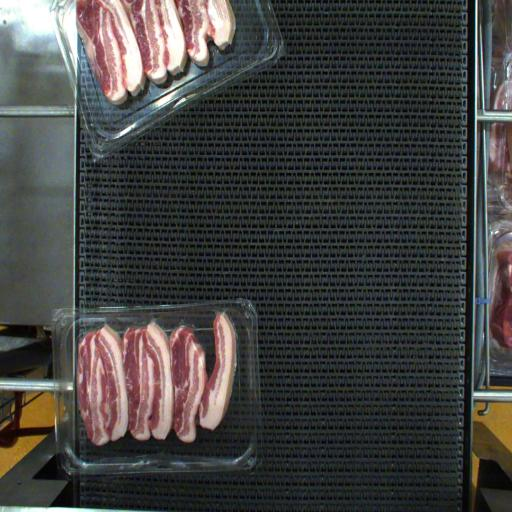loose-meat: (214, 311, 239, 437)
unsealed: (134, 311, 202, 377)
